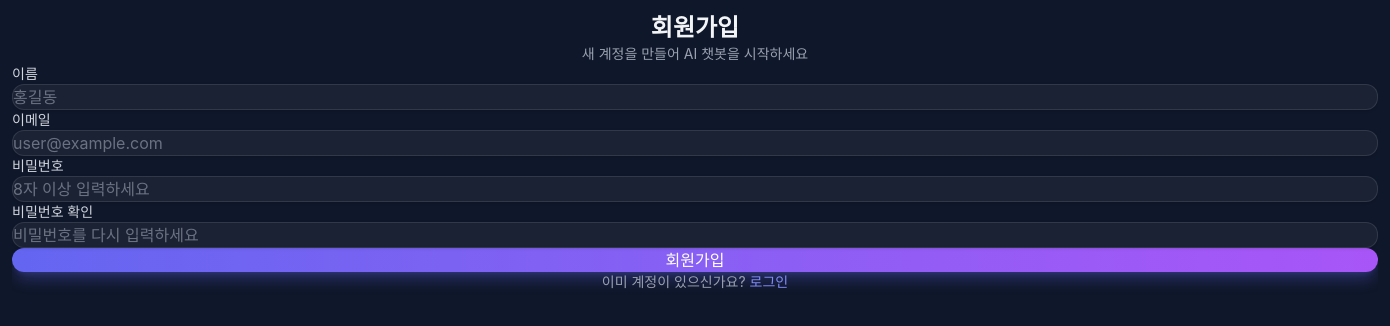
Test case: RegisterForm › 비밀번호 확인이 다르면 에러를 표시한다
Type "테스트" into the field labelled "이름" at (695, 97), box [12,84,1378,110]
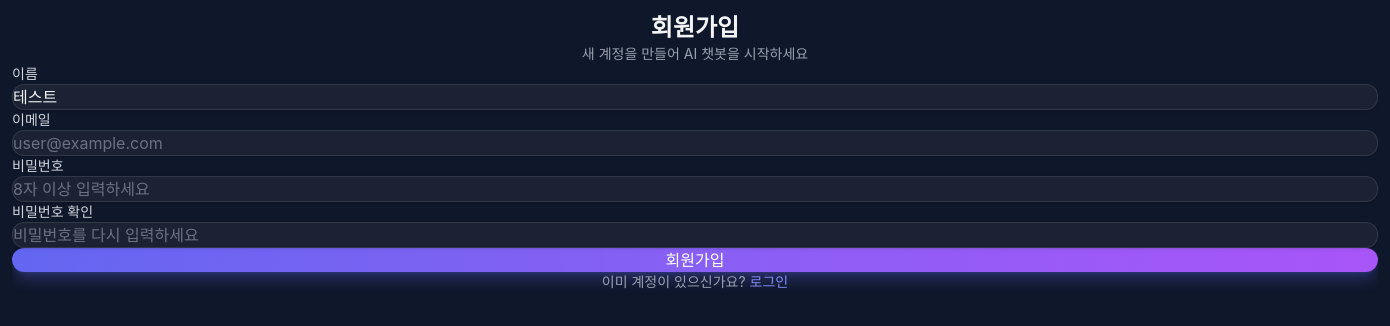
Type "test@example.com" into the field labelled "이메일" at (695, 143), box [12,130,1378,156]
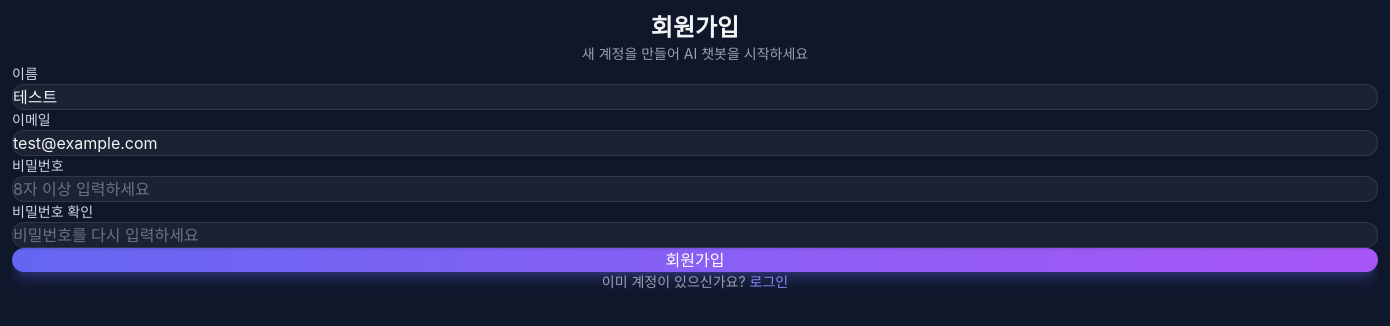
Type "password123" into the password field labelled "비밀번호" at (695, 189), box [12,176,1378,202]
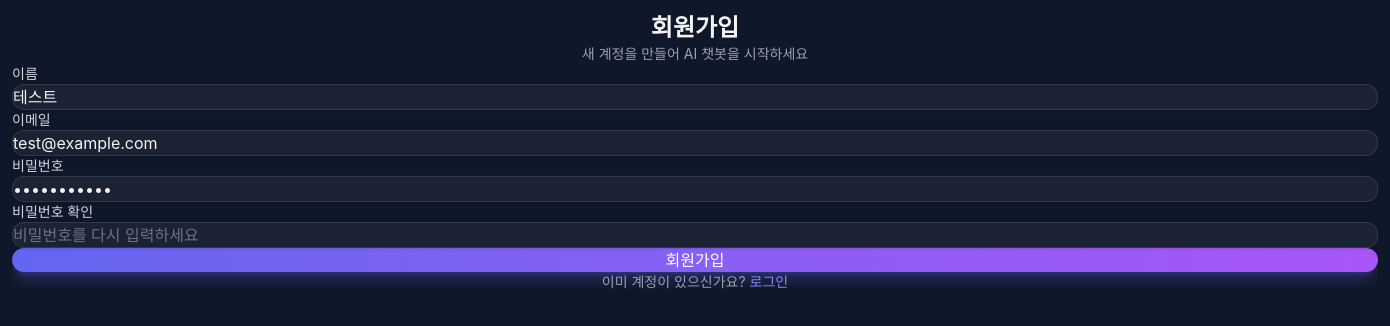
Type "different" into the password field labelled "비밀번호 확인" at (695, 235), box [12,222,1378,248]
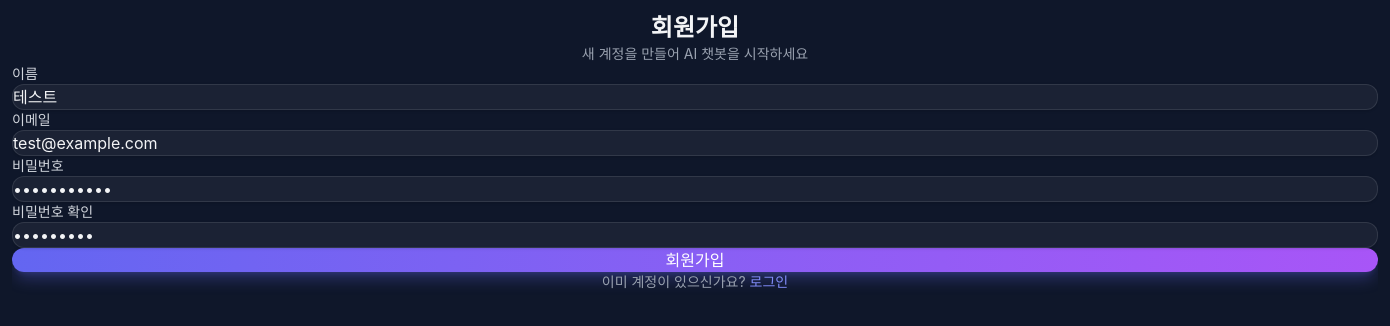
Click the button "회원가입" at (695, 260), box [12,248,1378,272]
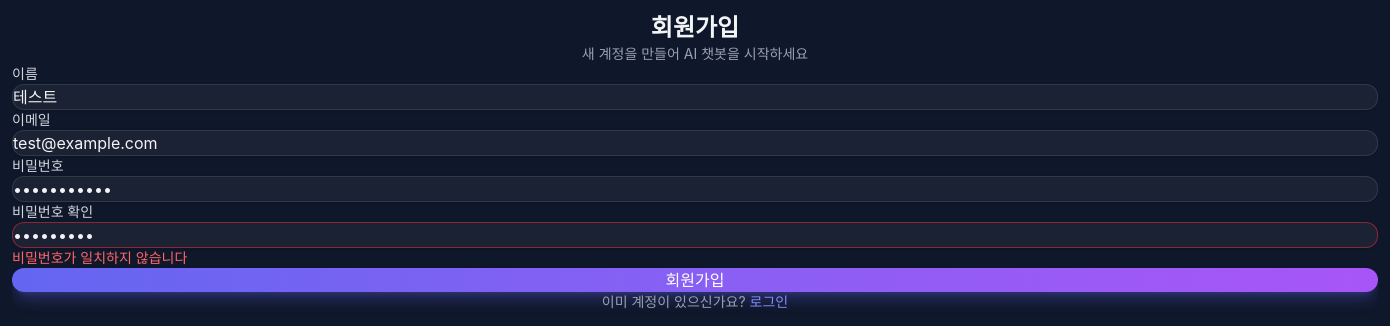
Result: the text "비밀번호가 일치하지 않습니다" is shown at [12,249,187,266]
